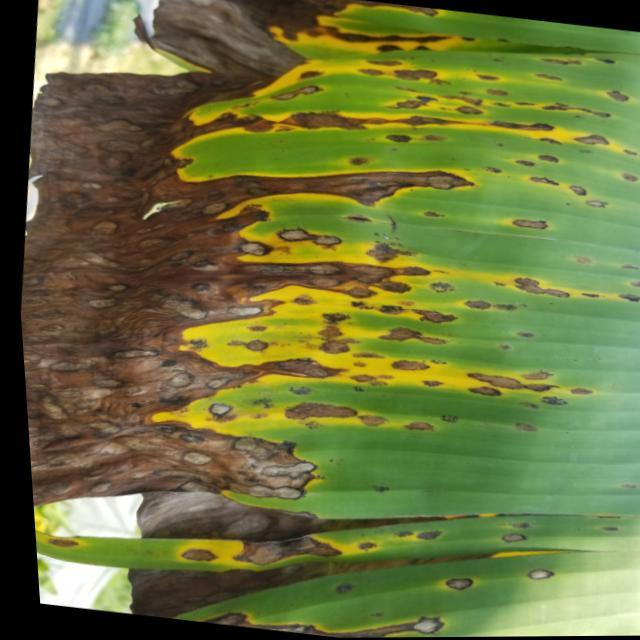Early_rust: (40, 0, 632, 617)
